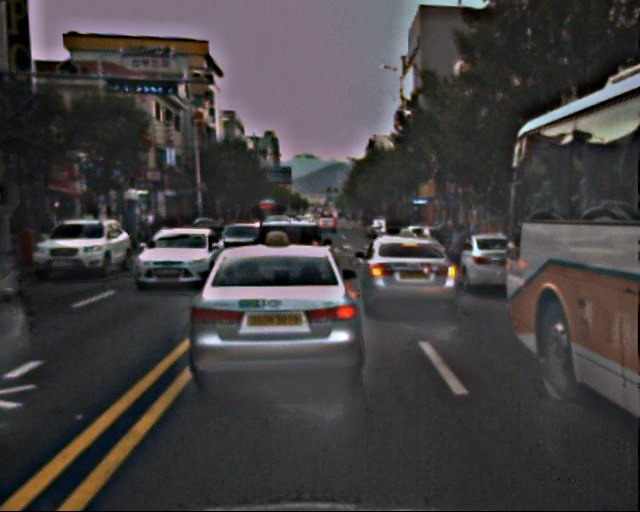person: (447, 225, 473, 299)
